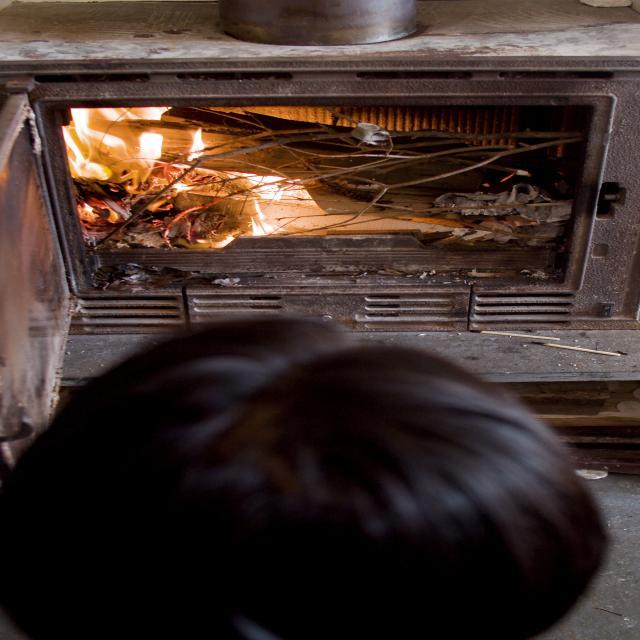Fire: (52, 100, 316, 244)
